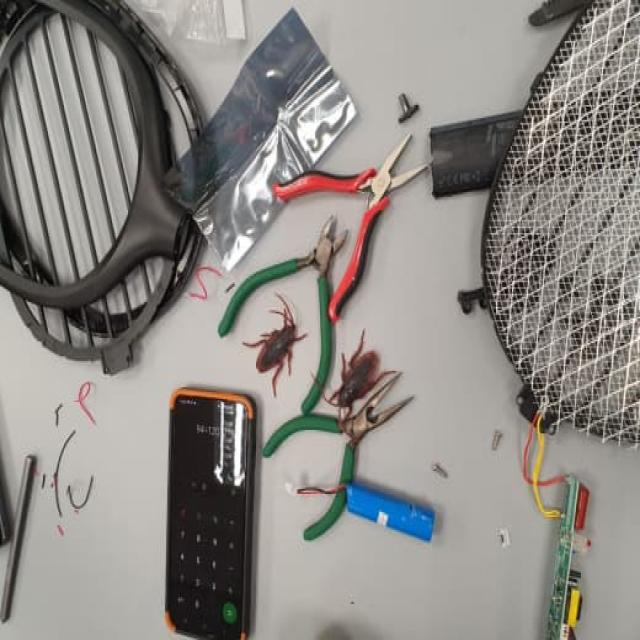Cockroach: (304, 317, 405, 443), (235, 290, 311, 400)
